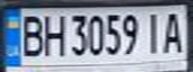0: (84, 11, 106, 57)
3: (66, 11, 87, 57)
5: (103, 11, 124, 56)
9: (121, 10, 142, 56)
A: (160, 9, 187, 55)
B: (15, 11, 45, 57)
H: (39, 11, 69, 57)
I: (142, 9, 166, 55)
